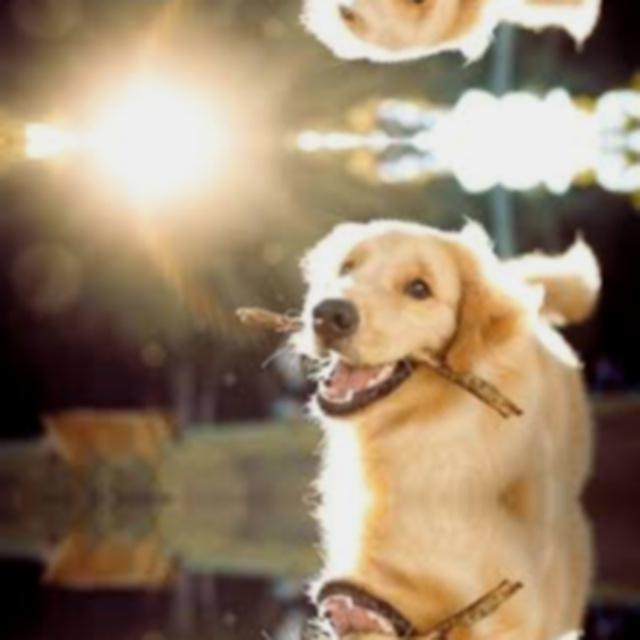dog: (289, 212, 489, 426), (289, 570, 489, 640), (289, 0, 489, 68)
